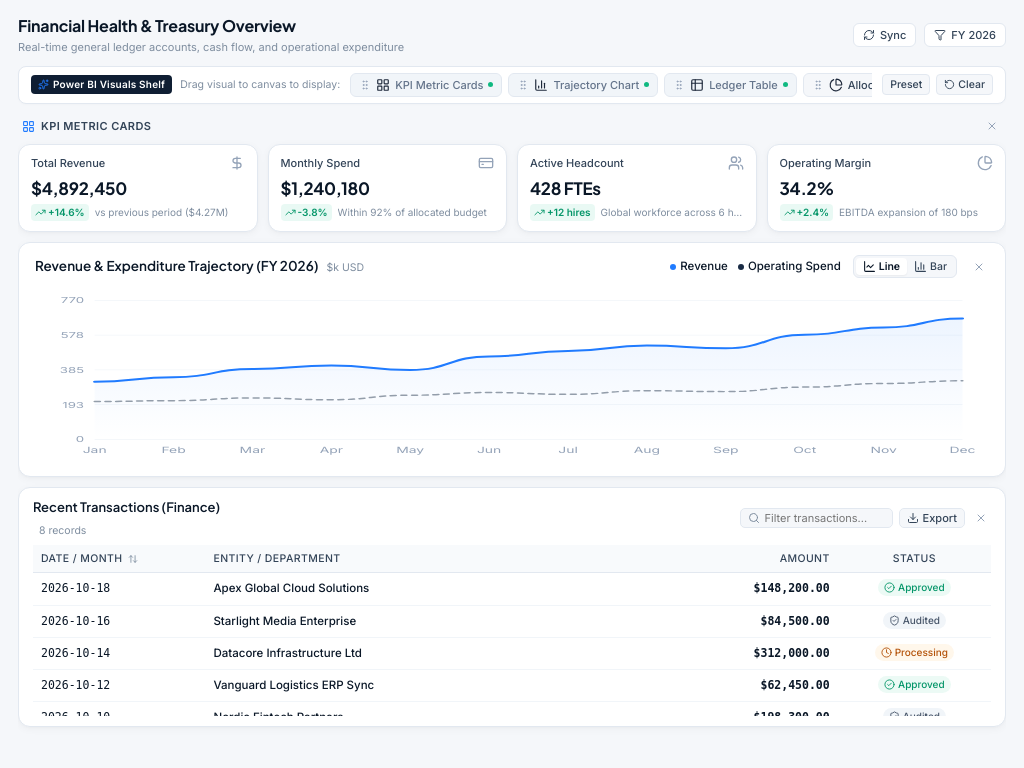
Test: MiddleDashboard Component (Power BI Interactive Canvas) › filters data table rows based on search input
Check: the text "Apex Global Cloud Solutions" is shown, box [205,573,646,605]
Check: the text "Starlight Media Enterprise" is shown, box [205,605,646,637]
# Search for Starlight
Type "Starlight" into the field with placeholder "Filter transactions..." at (825, 518), box [765,511,885,525]
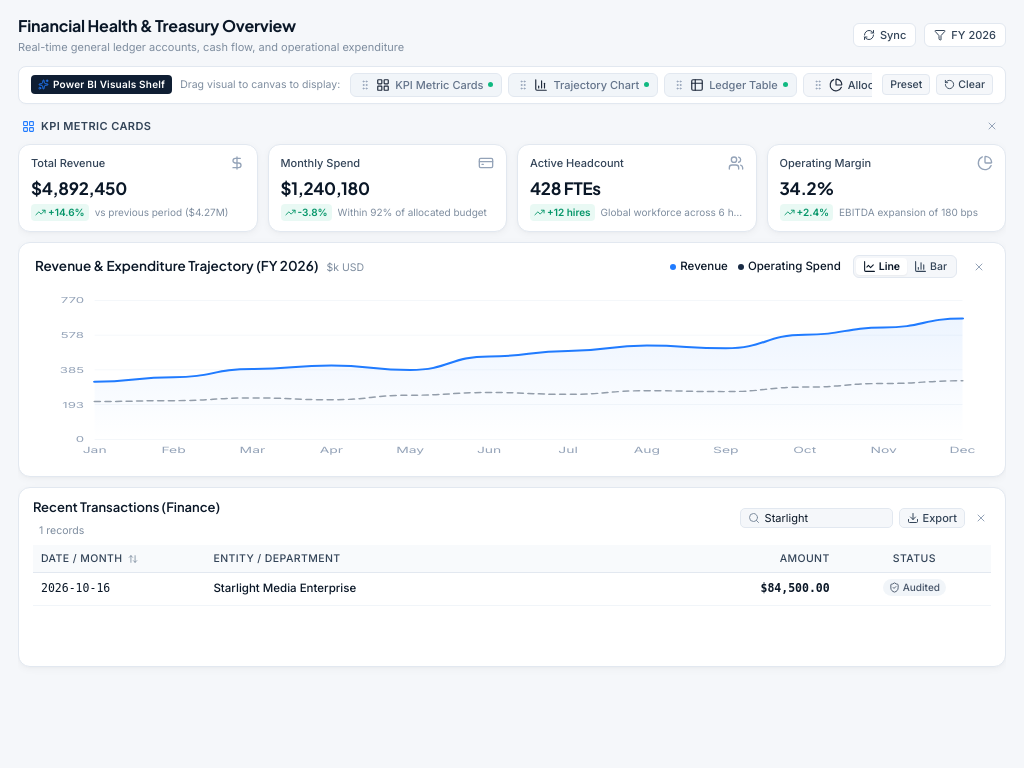
Check: the text "Starlight Media Enterprise" is shown, box [205,573,646,605]
Check: the text "Apex Global Cloud Solutions" is gone
